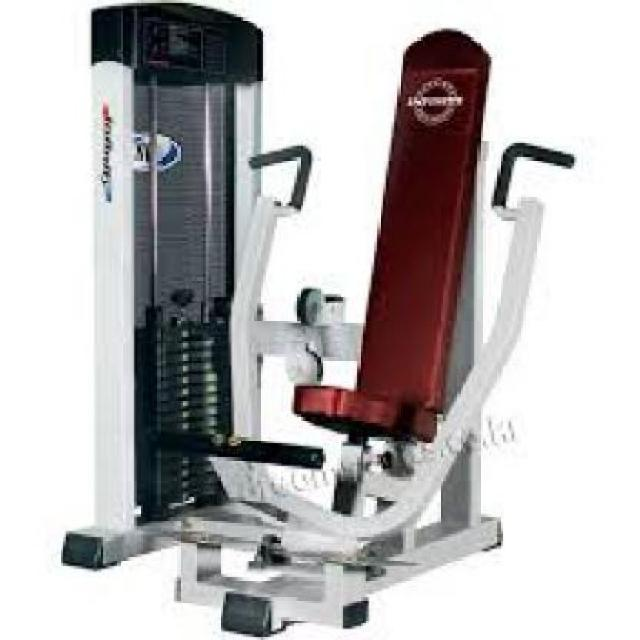Chest Press machine: (59, 0, 578, 640)
